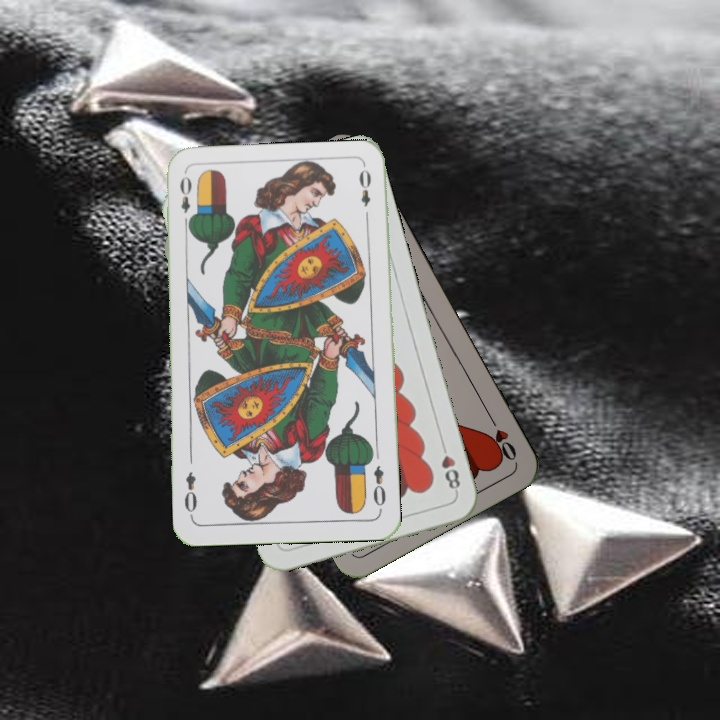EO: (176, 172, 196, 230), (369, 462, 389, 514)
H8: (436, 438, 463, 496)
HO: (484, 410, 520, 464)
